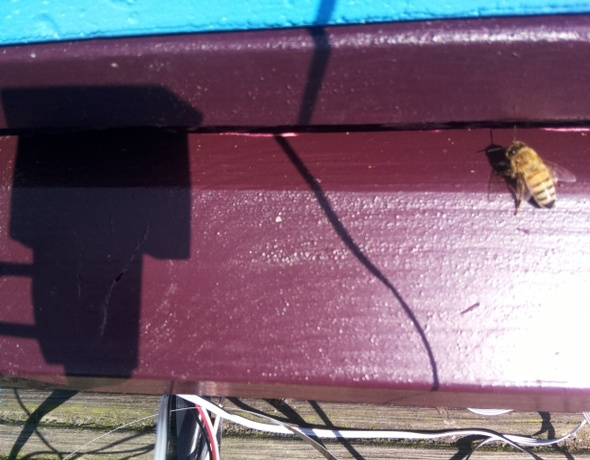no_pollen: (499, 135, 565, 217)
